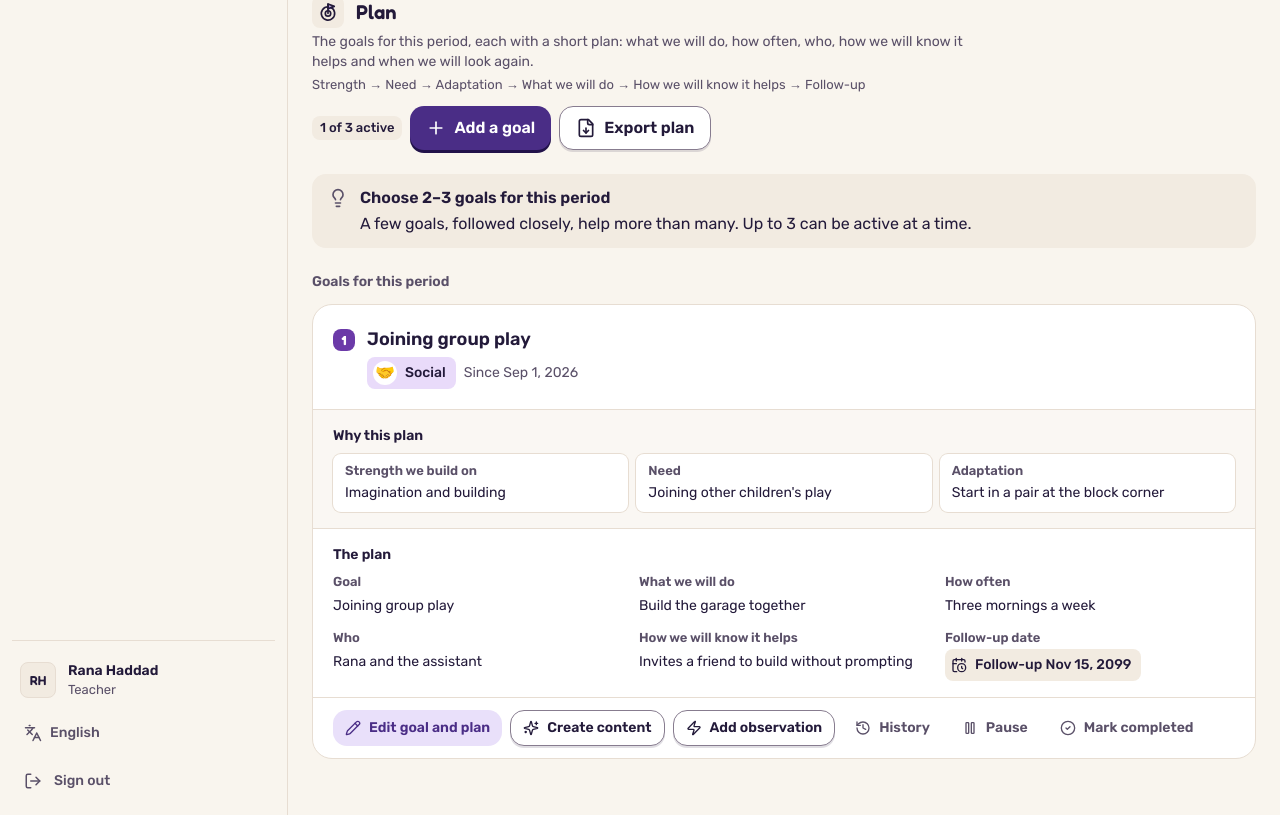
Plan tab › pauses a goal
The width and height of the screenshot is (1280, 815).
(page scrolled)
Click the button "Pause".
click(995, 728)  # box 950,710 -> 1040,746
(page scrolled)
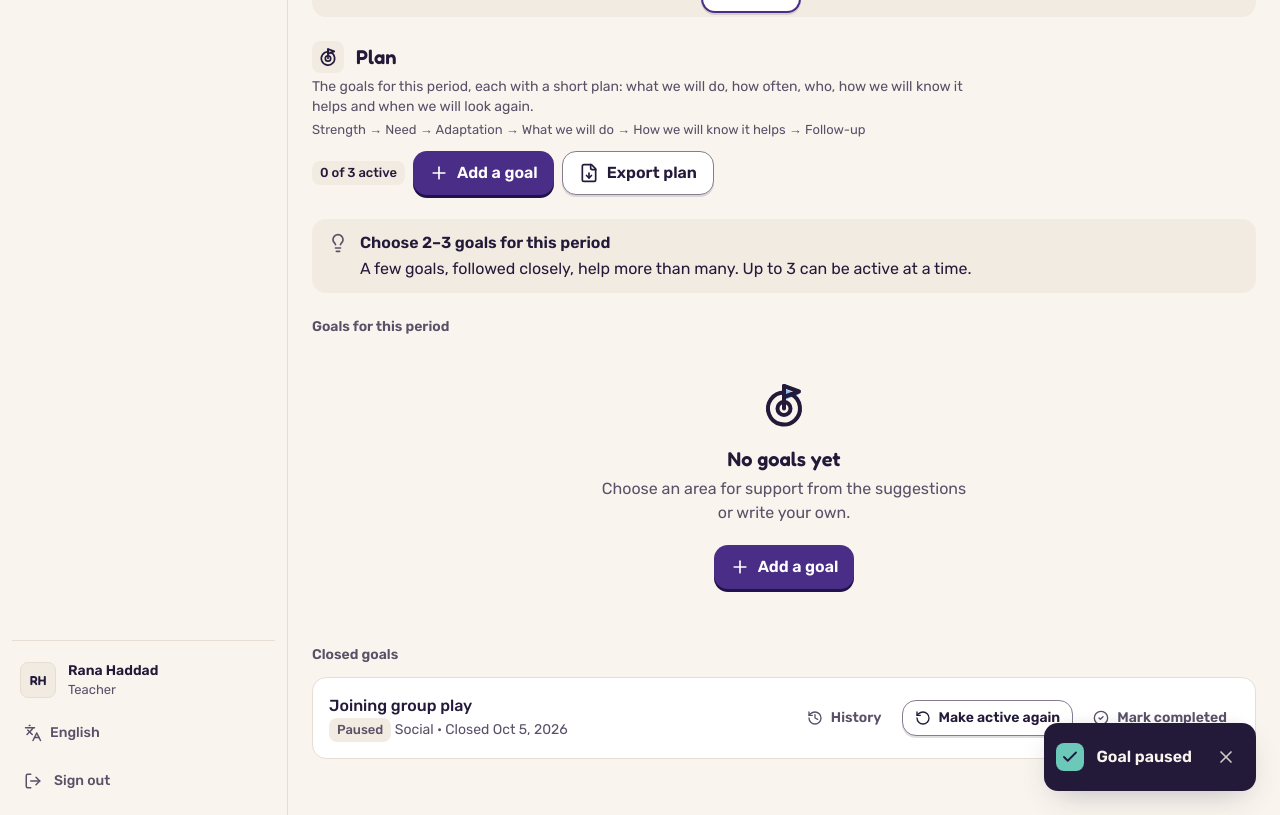
Expected: the text "Joining group play" is shown, 329,696 -> 472,715
Expected: the text with test id "focus-count" reads "0 of 3 active", 320,165 -> 397,180
